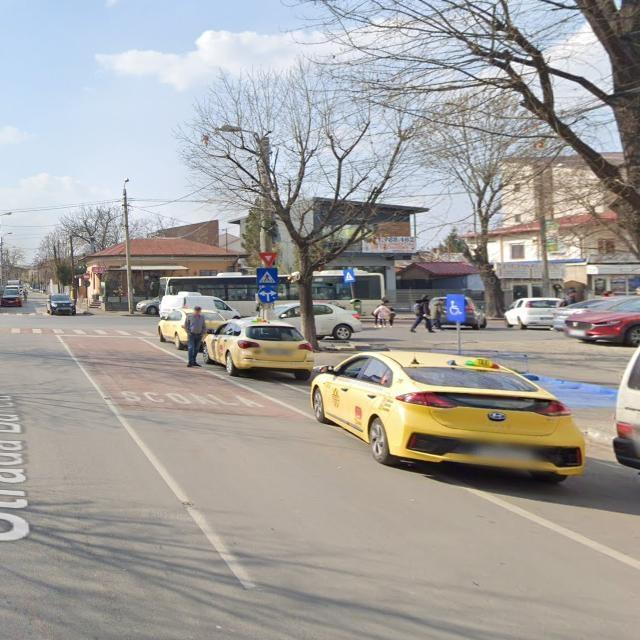info_crosswalk: (257, 268, 279, 286), (344, 269, 355, 283)
prio_give_way: (257, 251, 278, 267)
